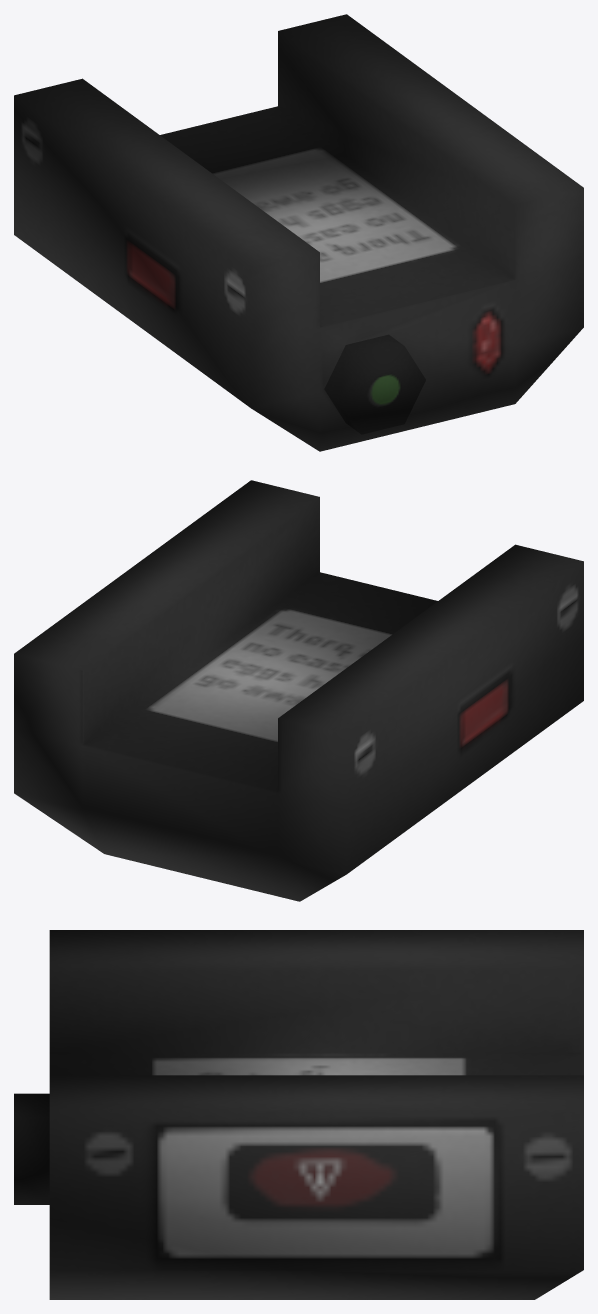
File: TLOG_LaserSightGround.fbx
3 views of the same model, one above another, from view 1: azimuth 30°, elevation 25°; view 2: azimuth 150°, elevation 25°; view 3: azimuth 270°, elevation 25° (orthographic). The views are drawn at different scales.
Parts seen in each view (by area): view 1: LaserSight; view 2: LaserSight; view 3: LaserSight.
Boxes of the visible parts, x1,y1,x2,y2 form: LaserSight: (14, 14, 583, 451); LaserSight: (14, 480, 583, 901); LaserSight: (14, 930, 583, 1299).
Size of the model in its own units: 0.0177 by 0.0102 by 0.0234.
